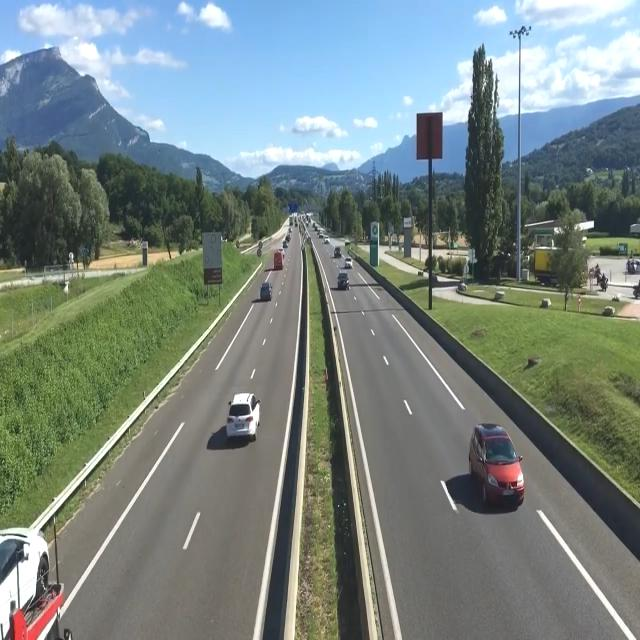Car: (469, 421, 524, 504), (228, 389, 262, 439), (336, 272, 351, 290), (260, 281, 273, 300), (345, 257, 353, 268)
Truck: (274, 248, 286, 270)
